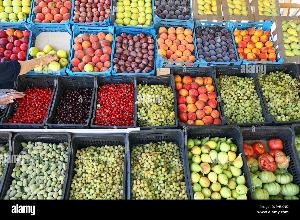apple: (29, 27, 69, 72), (112, 0, 158, 26), (1, 1, 32, 24)
apricot: (153, 26, 197, 70)
grape: (130, 134, 186, 199), (72, 139, 130, 199), (256, 70, 300, 120), (136, 77, 176, 127), (223, 72, 257, 124)
peach: (177, 72, 219, 126), (235, 20, 274, 64), (73, 32, 113, 72), (0, 27, 30, 63), (32, 1, 70, 26)
pear: (184, 133, 250, 201), (280, 20, 300, 60), (192, 1, 222, 20), (253, 1, 279, 22), (224, 1, 250, 20)
plum: (111, 30, 155, 76), (196, 25, 236, 64), (70, 0, 112, 28), (156, 0, 190, 18)
tomato: (242, 129, 300, 201)
